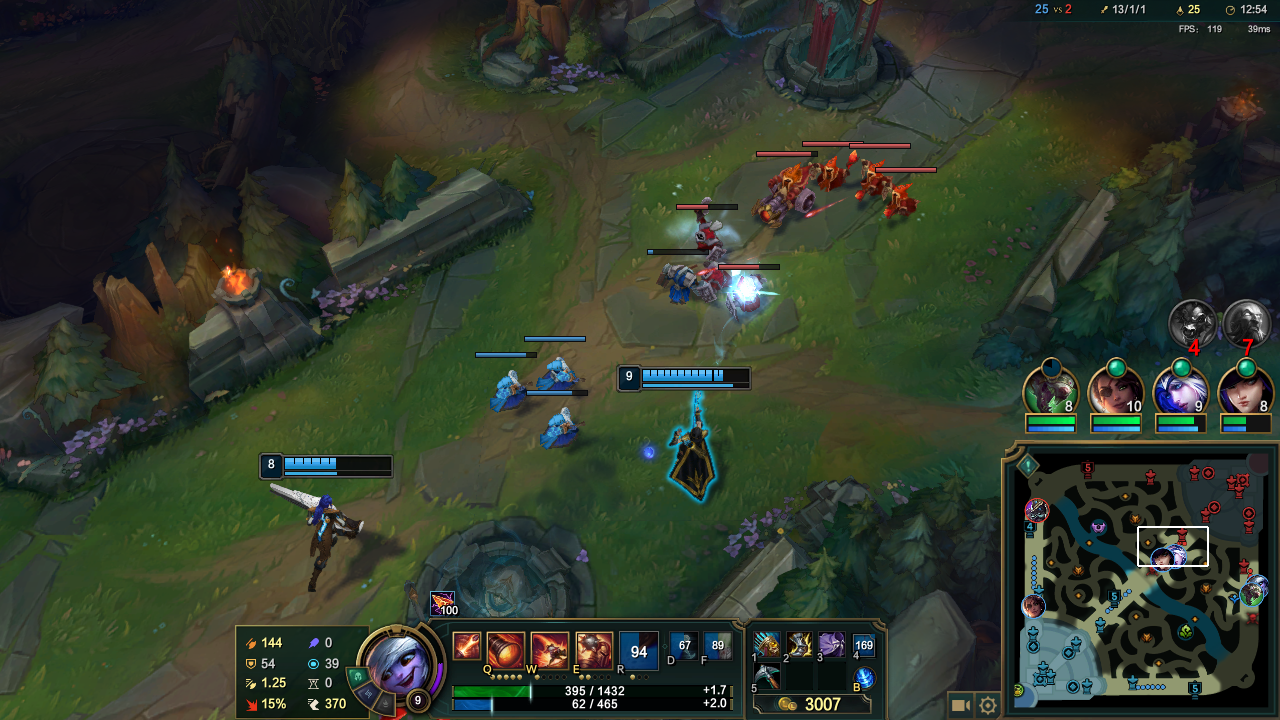DFXB: (739, 165, 824, 231), (726, 275, 772, 325), (808, 151, 863, 192), (848, 154, 885, 202), (692, 217, 737, 254), (884, 179, 921, 218)
WFXB: (653, 259, 723, 305), (532, 402, 585, 457), (488, 369, 533, 416), (535, 353, 582, 394)
Yita: (1183, 676, 1206, 702)
